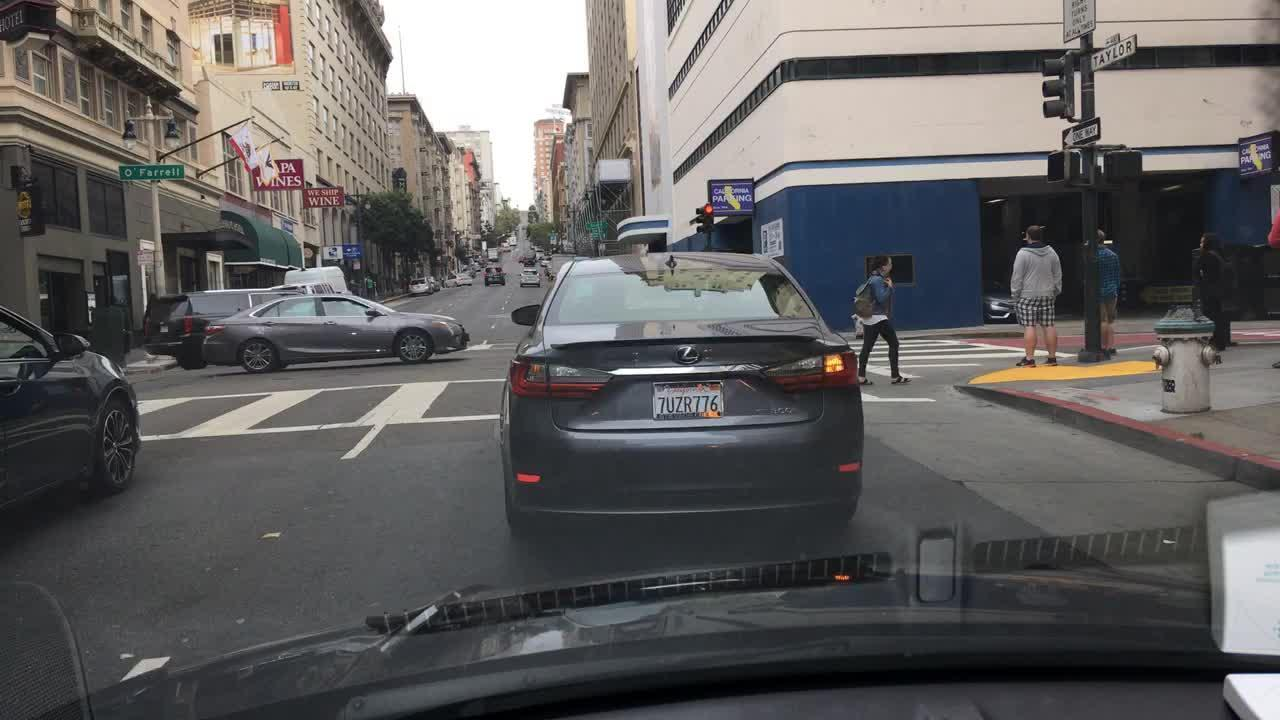lexus: (669, 342, 704, 368)
